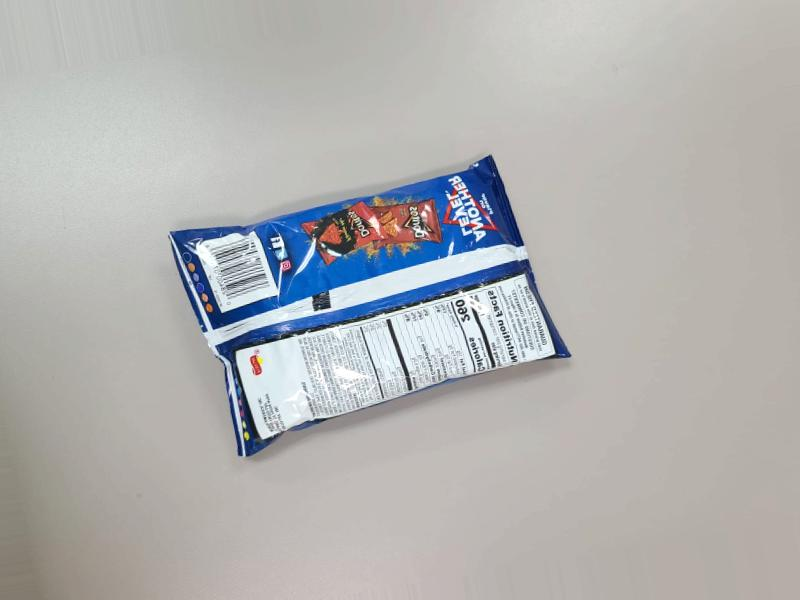doritos: (165, 188, 572, 468)
